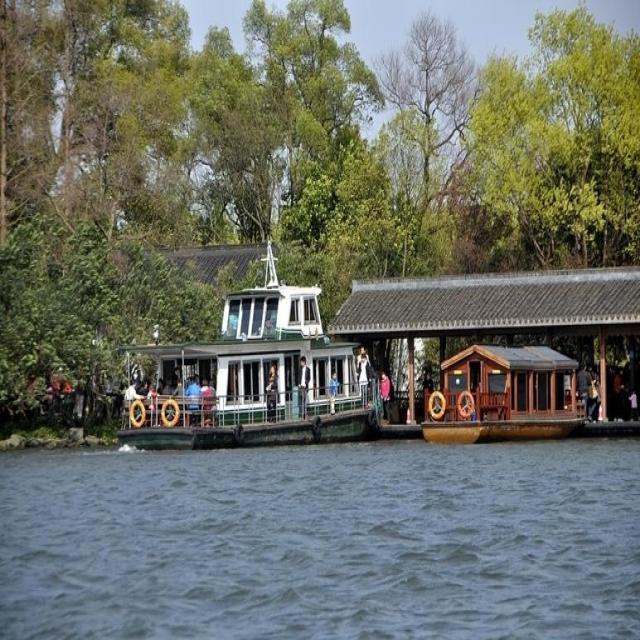boat: (116, 264, 374, 439), (419, 341, 574, 448)
